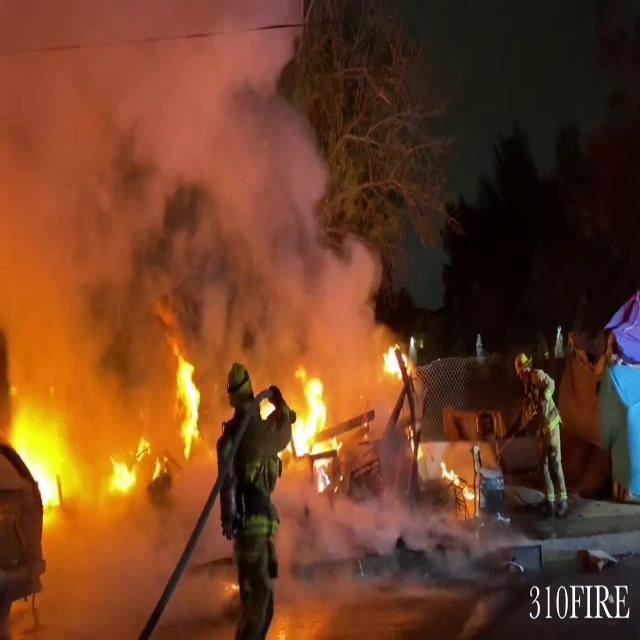Fire: (0, 378, 194, 523), (283, 366, 341, 466), (172, 351, 206, 458), (438, 454, 479, 514), (382, 338, 414, 384)
Smoke: (0, 0, 387, 364)
